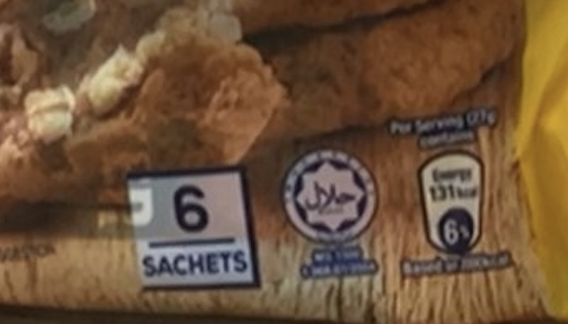halal: (300, 175, 365, 223)
